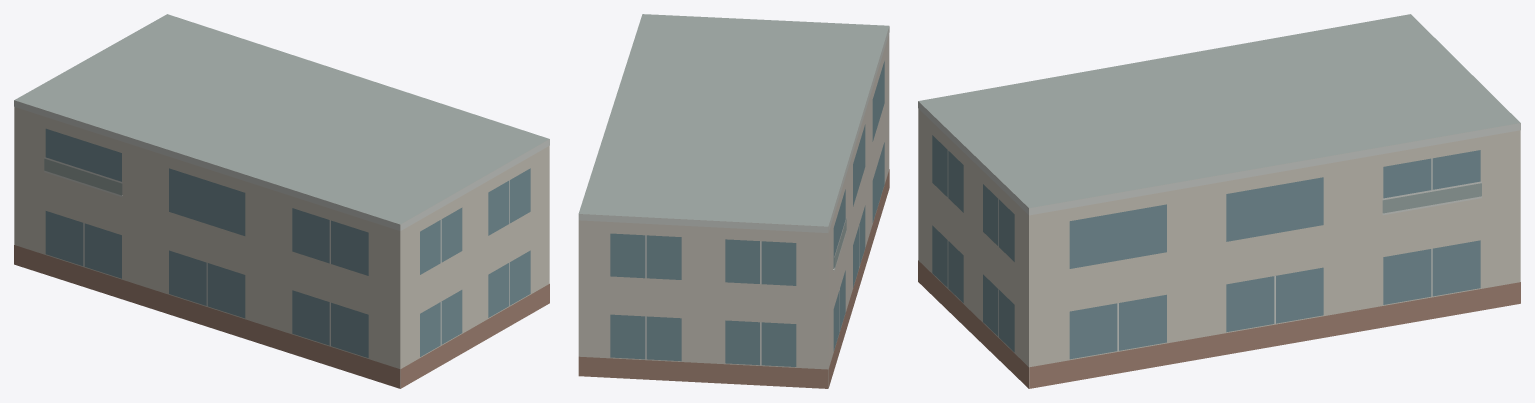
Rendered from survey-upis-33037429.glb.
3 renders of one model, left to right at view 1: azimuth 30°, elevation 25°; view 2: azimuth 150°, elevation 25°; view 3: azimuth 270°, elevation 25°, orthographic. The views are drawn at different scales.
Parts seen in each view (by area): view 1: survey-upis-33037429.tmp; view 2: survey-upis-33037429.tmp; view 3: survey-upis-33037429.tmp.
Part boxes in pixels (left/top/right/bottom): survey-upis-33037429.tmp: left=14, top=14, right=549, bottom=388; survey-upis-33037429.tmp: left=578, top=14, right=889, bottom=388; survey-upis-33037429.tmp: left=918, top=14, right=1520, bottom=388.
Size of the model in its own units: 14.08 by 6.1 by 18.45.
